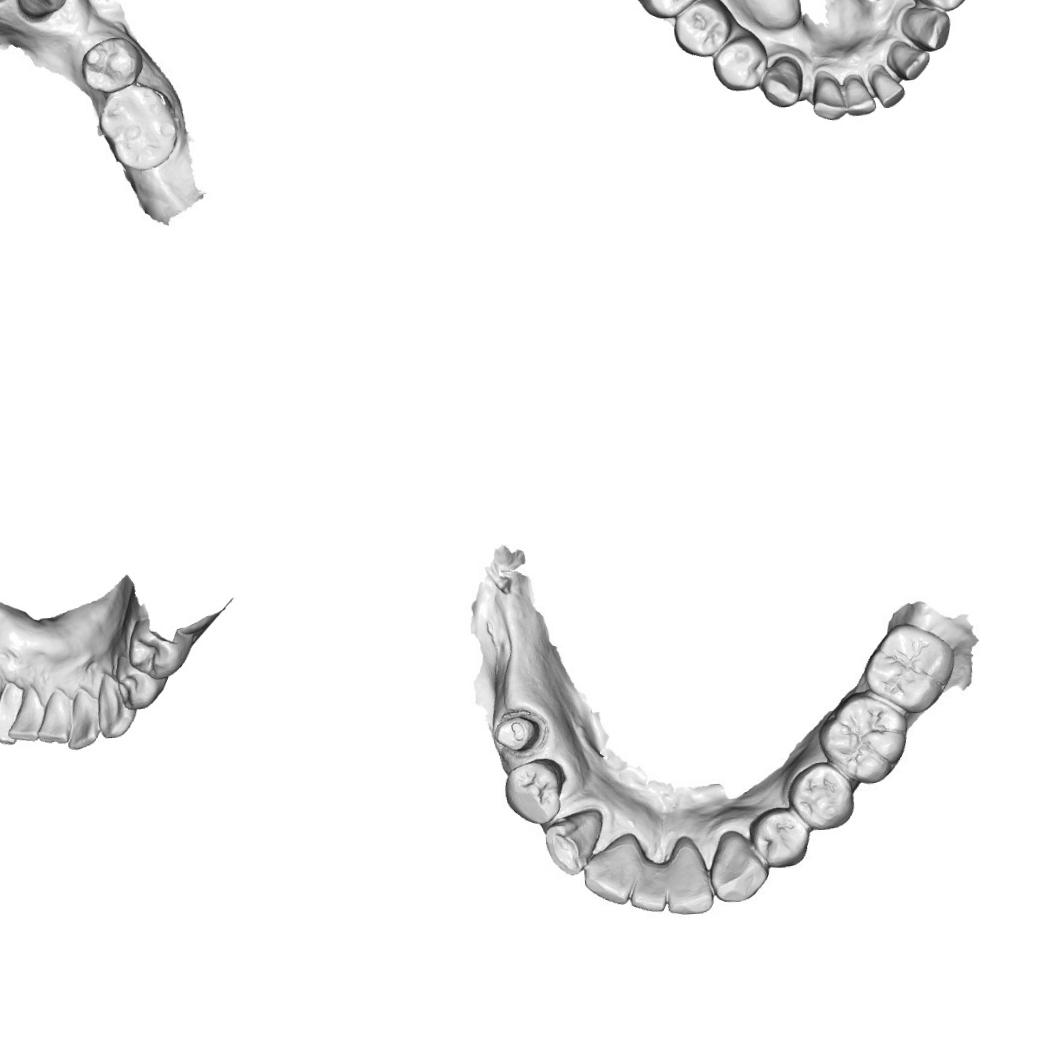canine: (706, 825, 770, 904), (538, 806, 606, 878), (92, 669, 138, 739), (756, 52, 804, 110), (900, 5, 952, 54), (11, 0, 71, 24)
crown: (493, 710, 542, 760)
incisor: (578, 836, 648, 910), (662, 844, 716, 916), (620, 856, 674, 916), (3, 684, 48, 744), (61, 686, 102, 751), (33, 685, 72, 746), (0, 678, 28, 747), (808, 74, 848, 122), (888, 40, 933, 82), (870, 66, 906, 110), (842, 76, 876, 118)
molar: (820, 689, 908, 781), (101, 80, 176, 174), (866, 626, 950, 706), (622, 0, 709, 22)
premolar: (783, 759, 857, 834), (124, 612, 195, 681), (501, 754, 569, 826), (748, 800, 812, 869), (708, 29, 772, 94), (670, 0, 737, 61), (76, 35, 144, 94), (111, 648, 171, 710), (904, 0, 973, 16)
